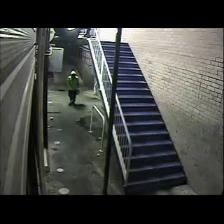person: (67, 70, 79, 105)
